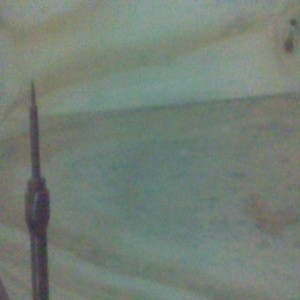solder: (24, 80, 50, 300)
